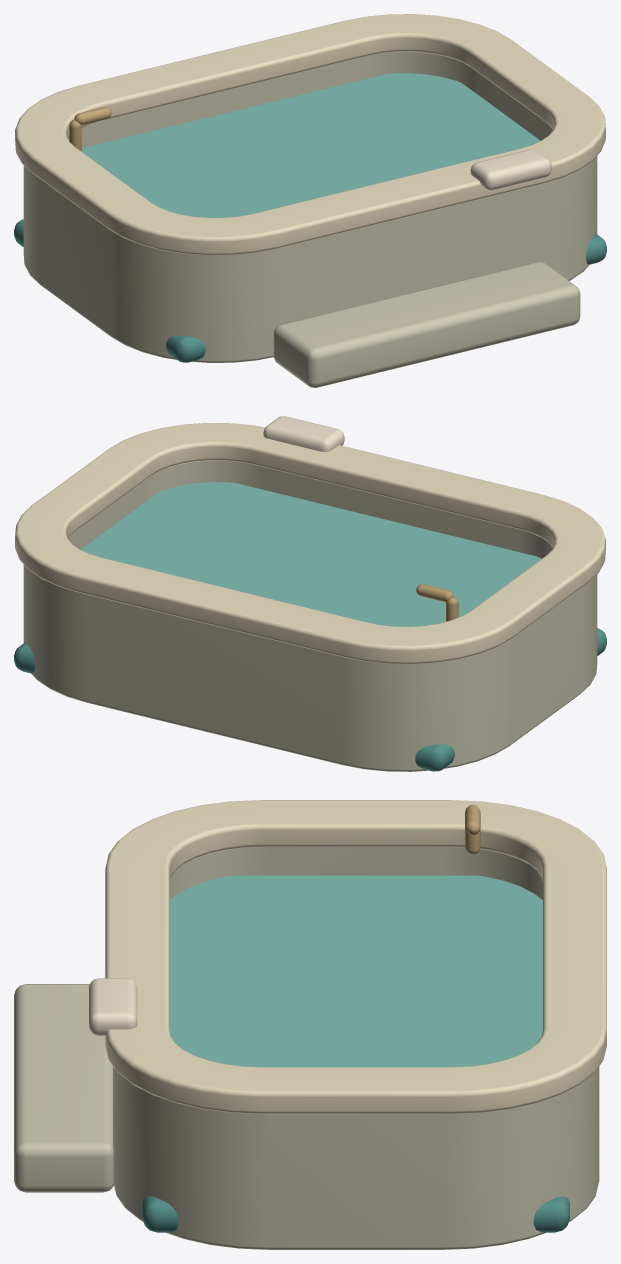
File: stone_bath.glb
3 renders of one model, top to bottom at view 1: azimuth 30°, elevation 25°; view 2: azimuth 150°, elevation 25°; view 3: azimuth 270°, elevation 25°, orthographic. The views are drawn at different scales.
Parts seen in each view (by area): view 1: Body_stone, Body_cream, Water_water, Body_linen, Body_teal, Body_gold; view 2: Body_stone, Body_cream, Water_water, Body_linen, Body_teal, Body_gold; view 3: Body_stone, Water_water, Body_cream, Body_linen, Body_teal, Body_gold.
Boxes of the visible parts, left/top/right/bottom form: Body_stone: left=23, top=51, right=597, bottom=387; Body_cream: left=15, top=14, right=605, bottom=255; Water_water: left=81, top=73, right=540, bottom=217; Body_linen: left=470, top=149, right=551, bottom=190; Body_teal: left=14, top=219, right=606, bottom=362; Body_gold: left=69, top=107, right=111, bottom=151; Body_stone: left=23, top=460, right=597, bottom=771; Body_cream: left=15, top=423, right=605, bottom=664; Water_water: left=80, top=482, right=541, bottom=626; Body_linen: left=263, top=416, right=344, bottom=451; Body_teal: left=14, top=628, right=606, bottom=771; Body_gold: left=416, top=584, right=458, bottom=621; Body_stone: left=14, top=847, right=599, bottom=1249; Water_water: left=169, top=875, right=542, bottom=1067; Body_cream: left=105, top=800, right=606, bottom=1113; Body_linen: left=89, top=978, right=137, bottom=1035; Body_teal: left=142, top=1196, right=569, bottom=1232; Body_gold: left=465, top=804, right=480, bottom=854.
Size of the model in its own units: 3.58 by 1.11 by 3.05.
